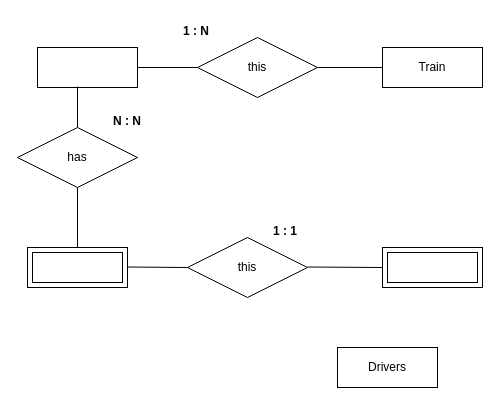
The diagram is 500 pixels wide and 405 high, and some of its shapes have lost their labels. The shapes that lost their labels are listed below. From the top down, each one's centre as x and y in pixels, then its label:
the point at 87,67: Lines
the point at 77,267: Stations
the point at 432,267: Locations
